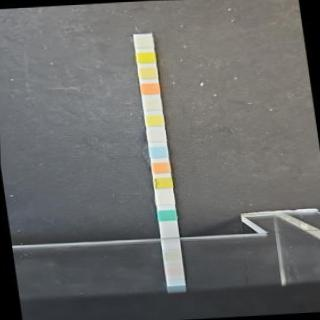mark: (158, 208, 177, 222), (148, 128, 166, 142), (149, 145, 168, 158), (140, 82, 159, 95), (136, 50, 155, 63), (138, 66, 158, 78), (134, 36, 154, 48), (153, 176, 172, 188), (151, 161, 170, 173), (143, 98, 161, 110), (155, 193, 173, 204)
